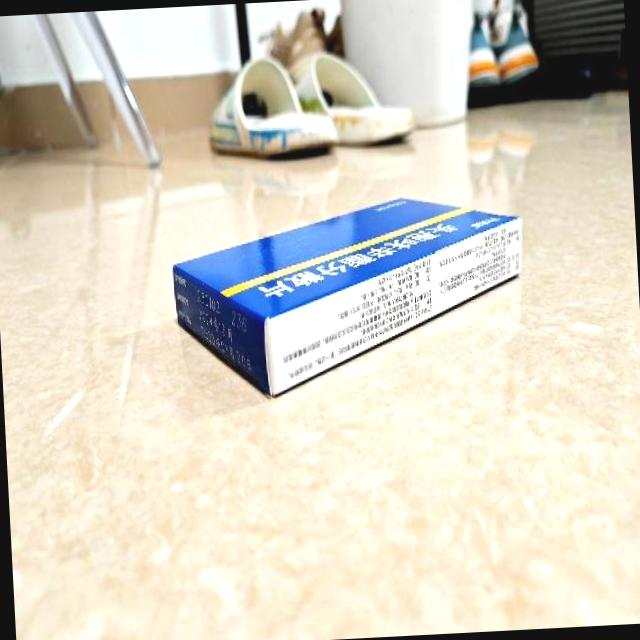box: (170, 192, 532, 402)
